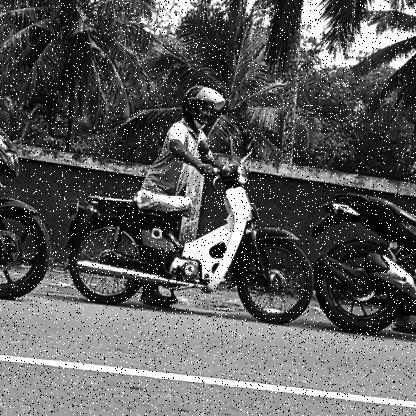motorcycle: (58, 131, 318, 327), (301, 156, 416, 368)
